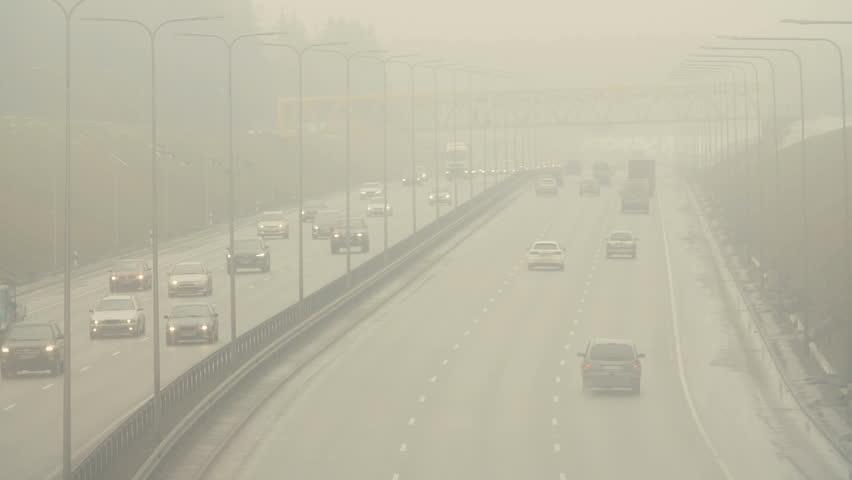airplane: (180, 172, 673, 396)
backpack: (167, 261, 212, 299)
bench: (165, 263, 215, 329), (165, 302, 219, 345), (167, 261, 212, 300)
bicycle: (165, 263, 215, 329), (166, 302, 219, 346), (225, 242, 271, 274), (257, 211, 289, 241)
boat: (108, 264, 151, 296)
bus: (56, 92, 780, 465), (579, 154, 659, 384), (319, 187, 388, 249), (164, 264, 221, 336), (581, 336, 642, 396), (89, 293, 146, 340), (100, 279, 149, 329), (167, 296, 217, 344), (167, 260, 212, 305), (108, 266, 152, 297), (311, 208, 344, 239), (330, 228, 369, 253)
car: (3, 313, 109, 473), (0, 320, 64, 439), (101, 266, 196, 334), (161, 283, 225, 370), (135, 252, 226, 313), (2, 271, 85, 337), (7, 311, 103, 368), (65, 271, 149, 333), (0, 292, 67, 363), (118, 298, 215, 345), (96, 254, 159, 322), (306, 203, 386, 255), (164, 264, 221, 336), (313, 184, 378, 243), (1, 320, 65, 378), (581, 337, 643, 395), (121, 260, 202, 304), (224, 214, 283, 274), (159, 246, 218, 298), (88, 292, 148, 340), (325, 181, 387, 224), (228, 209, 291, 251), (345, 177, 406, 220), (100, 279, 149, 329), (166, 302, 219, 346), (331, 220, 388, 255), (256, 210, 314, 244), (167, 261, 212, 304), (162, 281, 214, 318), (321, 214, 371, 252), (303, 207, 350, 245), (621, 158, 653, 213), (332, 204, 386, 236), (313, 207, 367, 238), (353, 206, 391, 250), (101, 273, 149, 307), (359, 187, 390, 238), (152, 257, 200, 289), (14, 308, 67, 336), (337, 203, 369, 249), (336, 188, 371, 230), (225, 242, 270, 274), (168, 299, 218, 326), (108, 266, 152, 296), (98, 286, 146, 313), (345, 185, 386, 216), (0, 282, 21, 338), (254, 211, 282, 253), (526, 240, 565, 270), (360, 181, 393, 215), (316, 216, 348, 251), (245, 227, 270, 271), (108, 259, 148, 286), (45, 321, 65, 372), (360, 177, 401, 201), (330, 228, 369, 253), (256, 210, 289, 238), (302, 205, 330, 238), (605, 230, 636, 259), (0, 296, 16, 351), (312, 208, 340, 239), (325, 223, 361, 246), (347, 215, 369, 250), (351, 179, 379, 204), (366, 194, 394, 218), (328, 225, 352, 253), (364, 202, 394, 224), (0, 319, 14, 363), (532, 239, 562, 259), (341, 224, 366, 248), (320, 215, 345, 239), (109, 269, 138, 289), (362, 190, 383, 217), (339, 234, 366, 254), (255, 227, 269, 265), (339, 219, 368, 237), (349, 229, 369, 253), (536, 175, 558, 196), (578, 176, 600, 197), (306, 213, 324, 238), (608, 229, 634, 246), (359, 181, 383, 199), (300, 205, 319, 227), (402, 169, 428, 185), (529, 238, 561, 251), (326, 222, 344, 245), (312, 219, 332, 239), (428, 191, 452, 205), (413, 168, 431, 184)
chair: (0, 320, 64, 439), (166, 266, 220, 338), (2, 320, 65, 378), (166, 302, 220, 345), (167, 261, 212, 304)
dining table: (165, 302, 219, 345)
fire hydrant: (256, 211, 288, 250), (0, 282, 20, 339)
motorcycle: (165, 263, 215, 329), (224, 220, 277, 274), (527, 239, 564, 270), (358, 181, 389, 216), (257, 211, 289, 241)
oven: (1, 320, 65, 475), (164, 265, 221, 340)
parking meter: (256, 211, 288, 250), (253, 225, 271, 271), (0, 283, 16, 332), (328, 228, 344, 253), (225, 247, 236, 276)
person: (0, 315, 71, 473), (164, 265, 221, 340), (1, 316, 63, 378), (91, 280, 153, 340), (167, 262, 212, 303), (107, 267, 152, 299), (331, 221, 366, 256), (0, 282, 21, 338), (256, 209, 288, 243), (358, 181, 389, 216), (328, 226, 344, 253)
refrigerator: (1, 314, 65, 473), (164, 265, 221, 340)
sink: (226, 246, 271, 274)
suitcase: (1, 320, 65, 475), (164, 264, 221, 336), (166, 302, 219, 345), (167, 261, 211, 300), (226, 246, 271, 274)
toaster: (226, 246, 271, 274)
toilet: (226, 246, 271, 274)
traffic light: (0, 283, 17, 332)
train: (44, 143, 822, 461), (163, 176, 671, 378), (30, 244, 403, 460), (570, 150, 651, 380)
truck: (579, 154, 659, 384), (0, 320, 64, 439), (145, 262, 224, 350), (101, 266, 196, 334), (96, 254, 159, 322), (306, 203, 386, 255), (313, 184, 378, 243), (0, 319, 64, 377), (581, 337, 642, 395), (165, 263, 215, 329), (88, 292, 147, 339), (325, 181, 387, 224), (164, 299, 219, 345), (100, 279, 149, 329), (167, 260, 212, 300), (323, 213, 367, 252), (108, 266, 152, 296), (526, 240, 565, 270), (360, 181, 392, 215), (311, 208, 344, 239), (330, 228, 369, 253), (256, 210, 289, 238), (302, 205, 330, 238), (365, 193, 394, 216), (299, 203, 322, 231), (327, 228, 349, 254), (311, 213, 332, 239), (359, 181, 384, 202), (535, 175, 558, 196)
tv: (167, 261, 212, 304), (108, 266, 152, 296)
umbrella: (108, 266, 152, 296)
